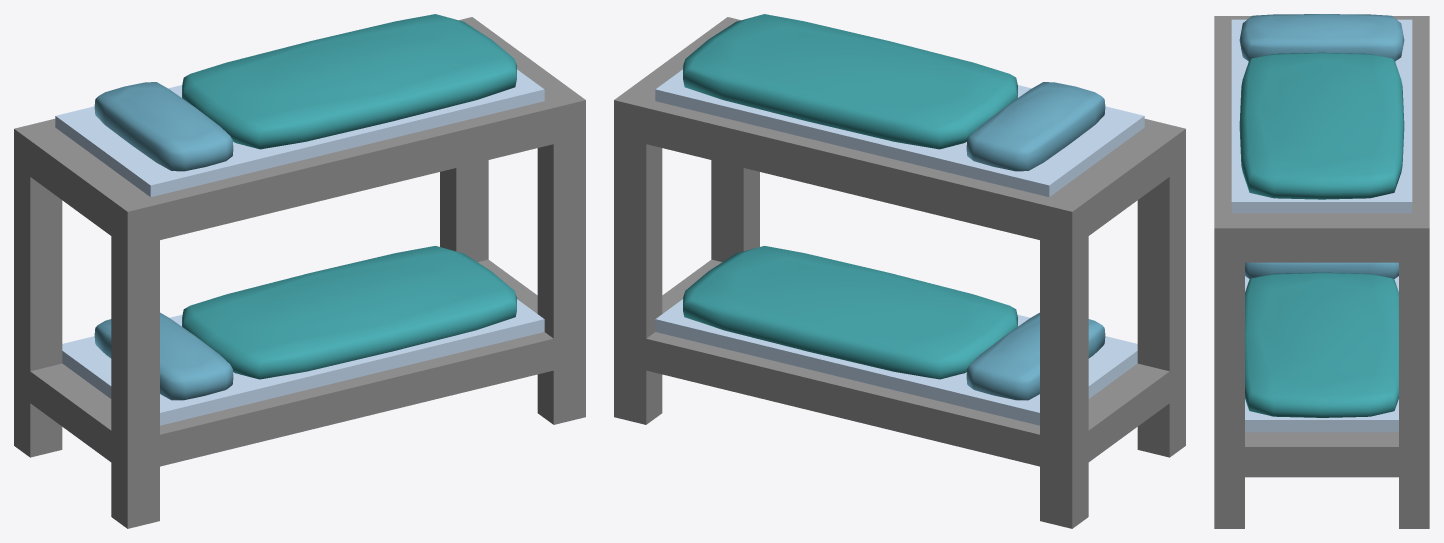
File: BunkBed.fbx
3 renders of one model, left to right at view 1: azimuth 30°, elevation 25°; view 2: azimuth 150°, elevation 25°; view 3: azimuth 270°, elevation 25°, orthographic. The views are drawn at different scales.
Visible parts, largest first — view 1: Cube.016; view 2: Cube.016; view 3: Cube.016.
Boxes of the visible parts, bbox=[...] form: Cube.016: bbox=[14, 14, 585, 528]; Cube.016: bbox=[614, 14, 1185, 528]; Cube.016: bbox=[1214, 14, 1429, 528].
Size of the model in its own units: 18.92 by 14.08 by 8.13.
